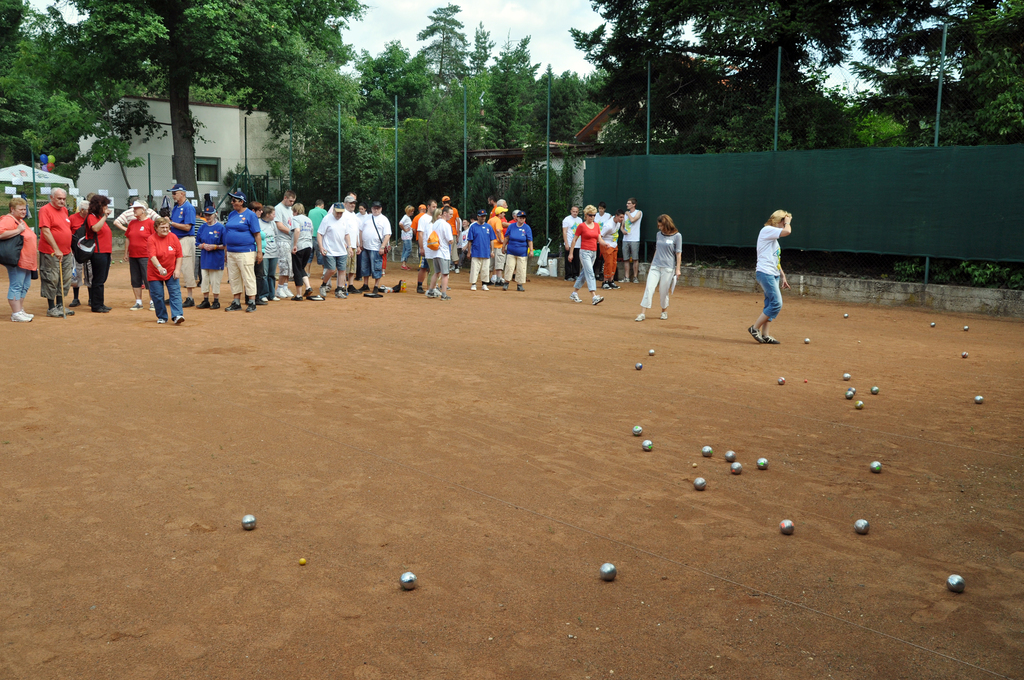Person: (0, 183, 792, 343)
